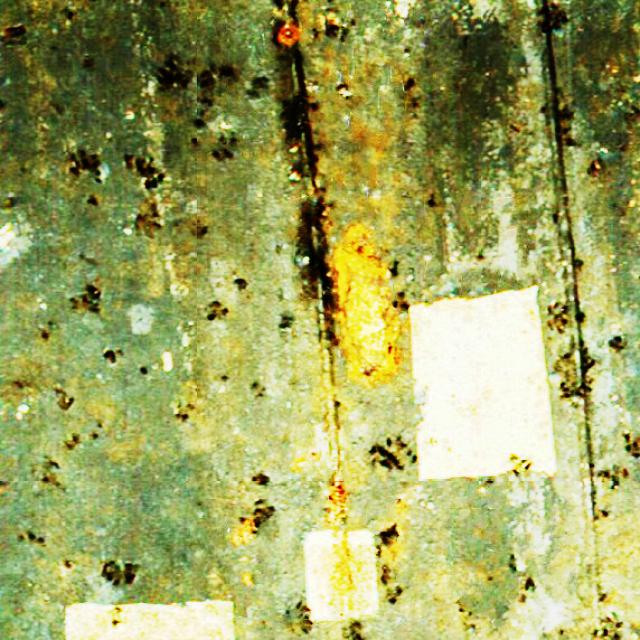Corrosion: (328, 225, 399, 381), (331, 533, 354, 589), (326, 475, 348, 523), (232, 518, 256, 547), (294, 448, 323, 470), (277, 24, 300, 45), (382, 542, 401, 563), (393, 494, 410, 515)
